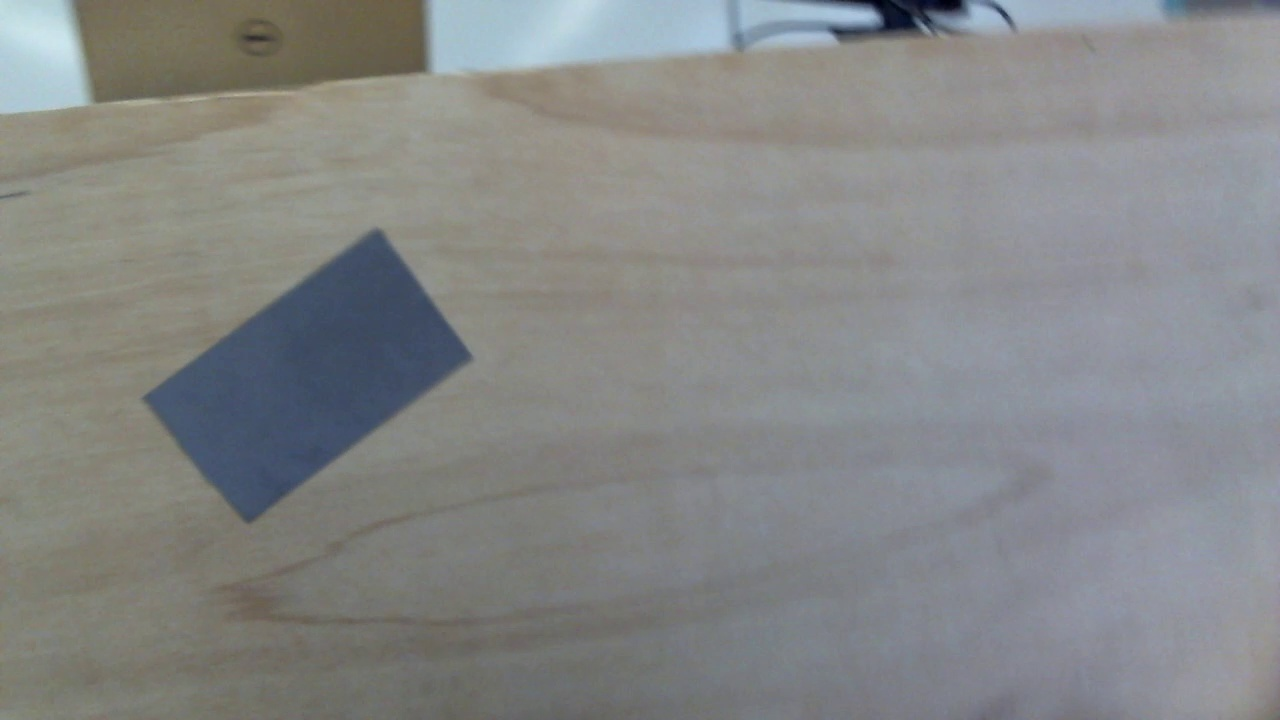Tape: (142, 230, 477, 524)
